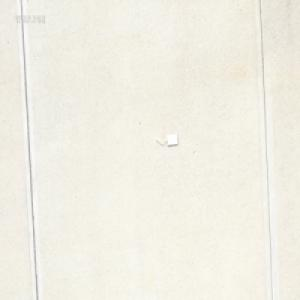LuggageTag: (153, 132, 178, 148)
